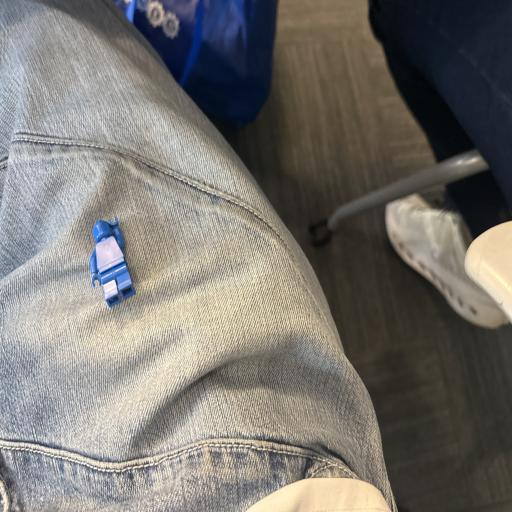Minifig: (90, 216, 135, 307)
